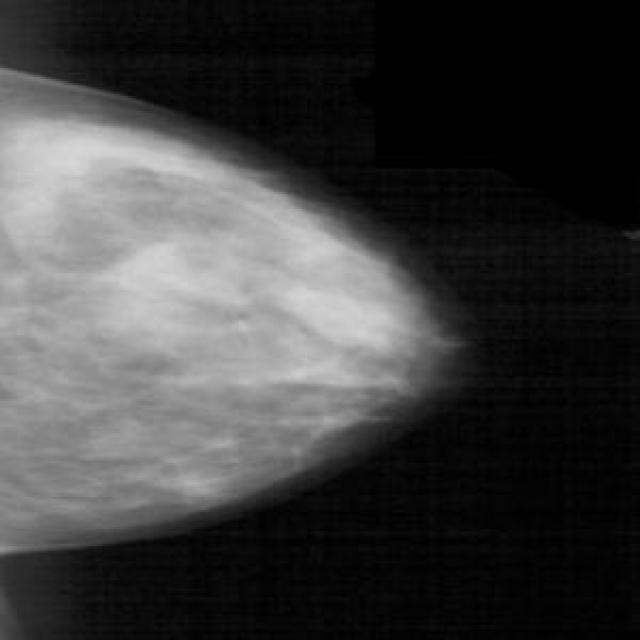tumor: (240, 240, 404, 410)
